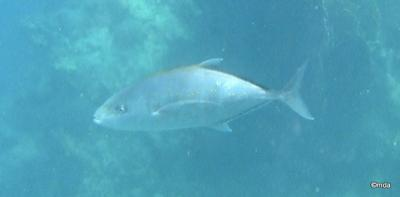Carangidae -Jacks-: (81, 56, 319, 135)
